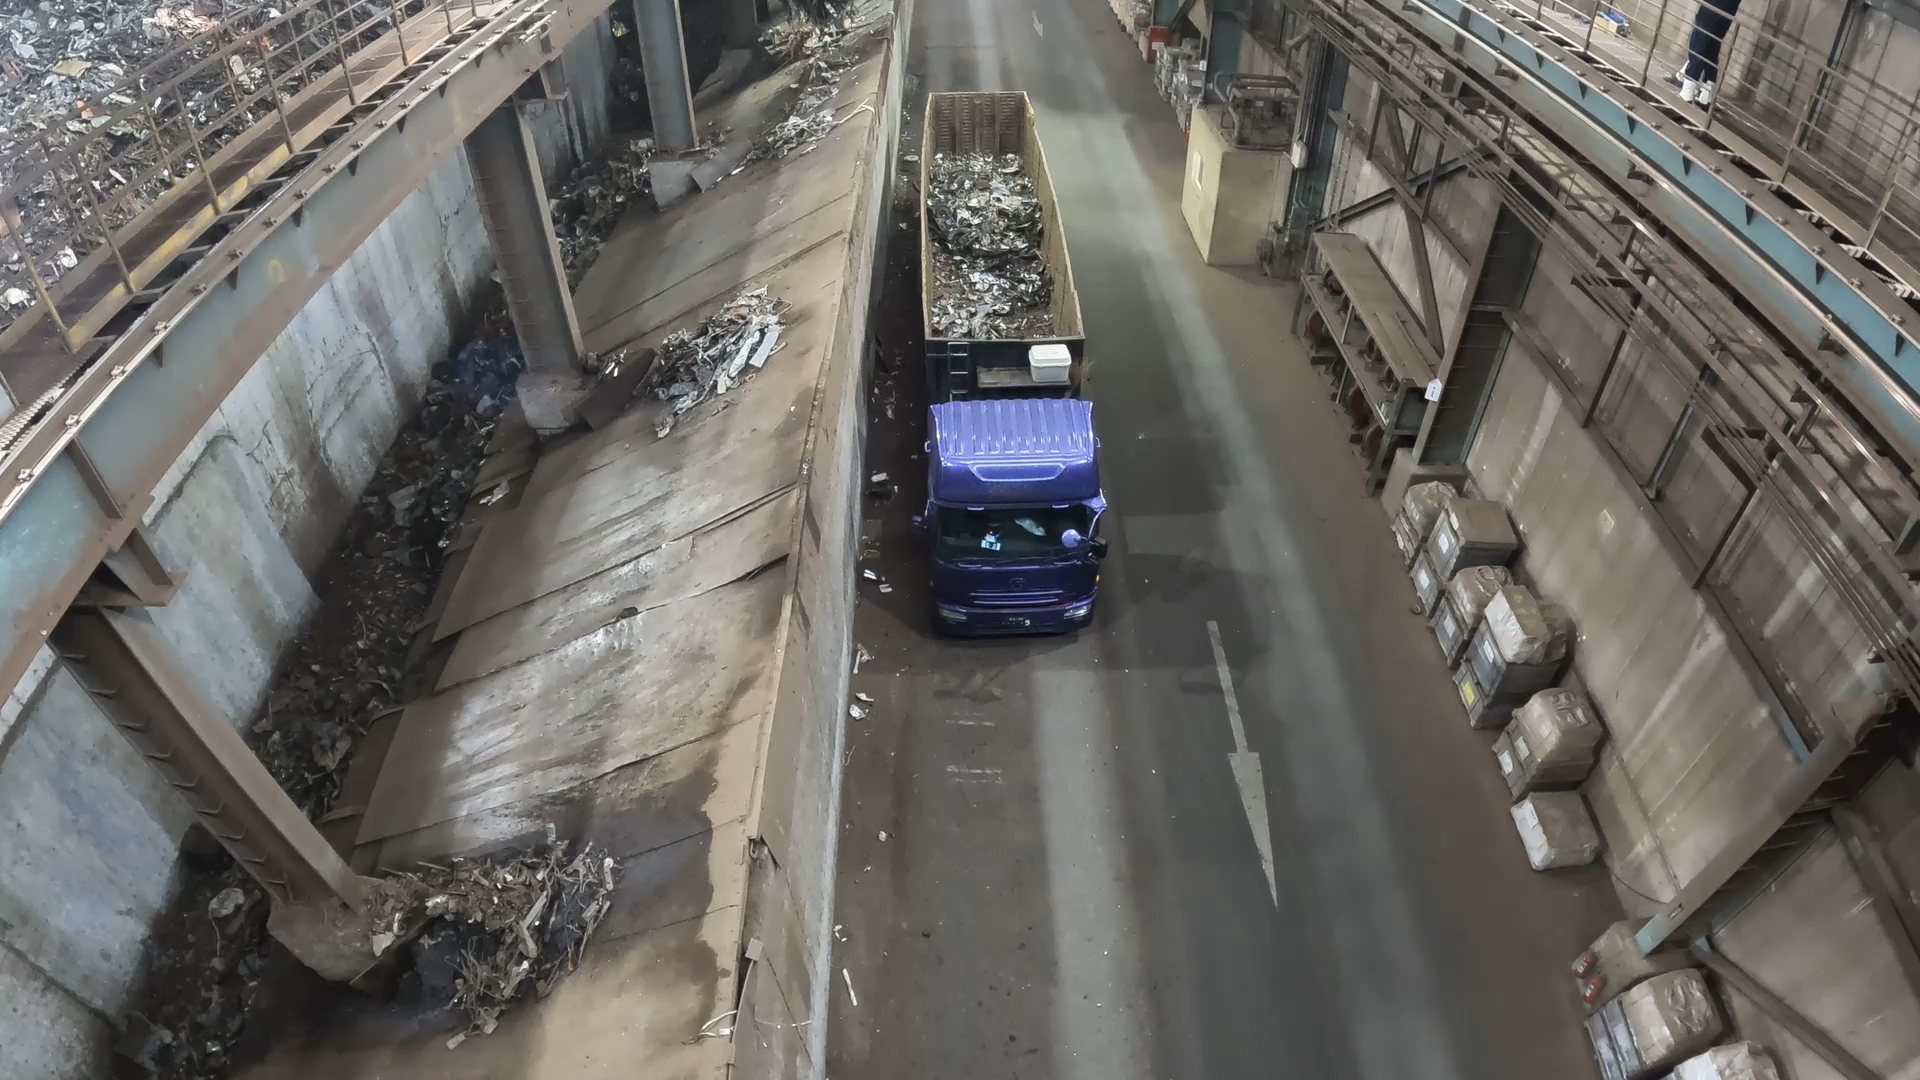truck: (922, 90, 1083, 342)
